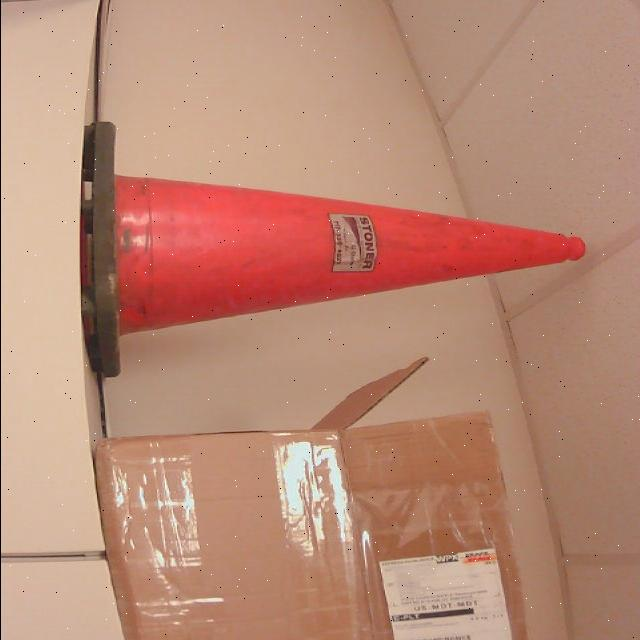traffic cone: (81, 121, 586, 378)
